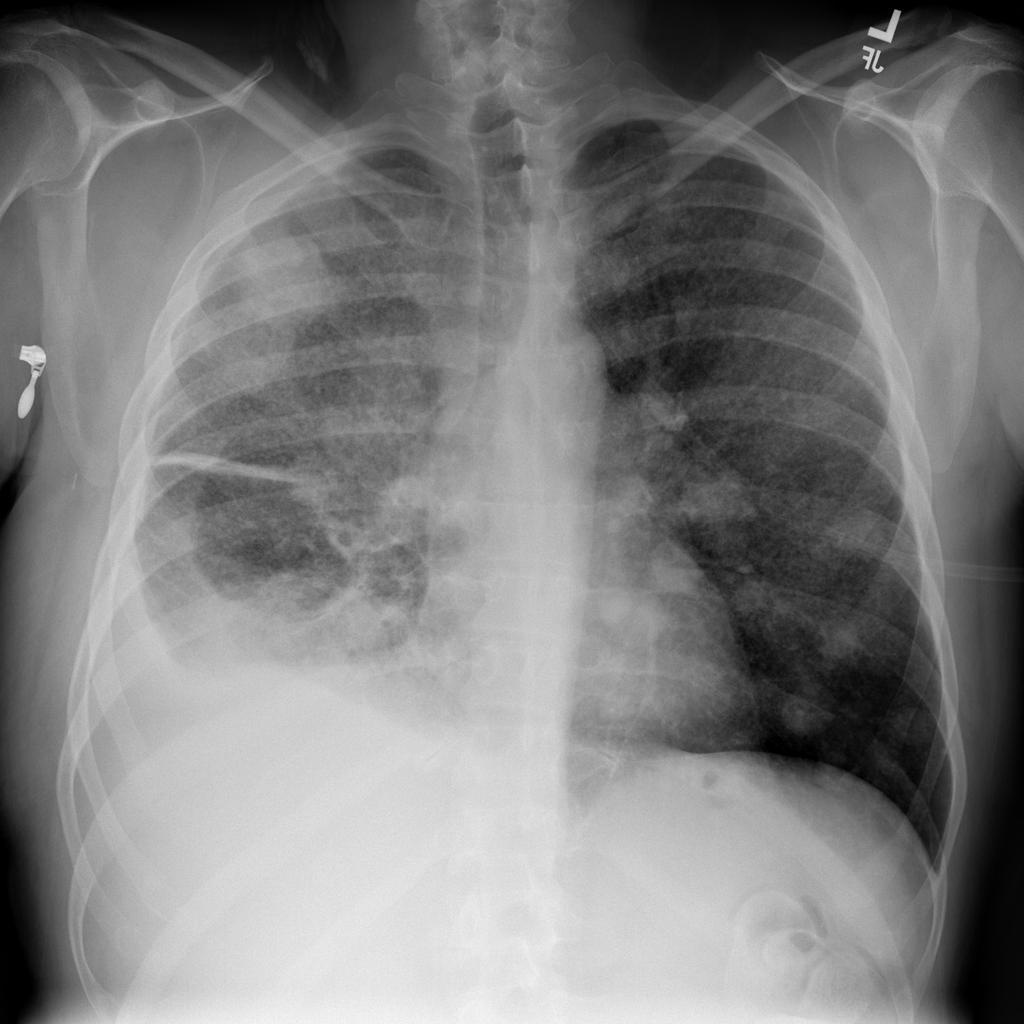nodule: (204, 209, 361, 342), (665, 452, 771, 555), (320, 586, 402, 660), (765, 673, 846, 747), (816, 500, 897, 572), (584, 569, 666, 639), (801, 600, 876, 673), (639, 534, 711, 608), (876, 686, 947, 760), (721, 566, 794, 635)
